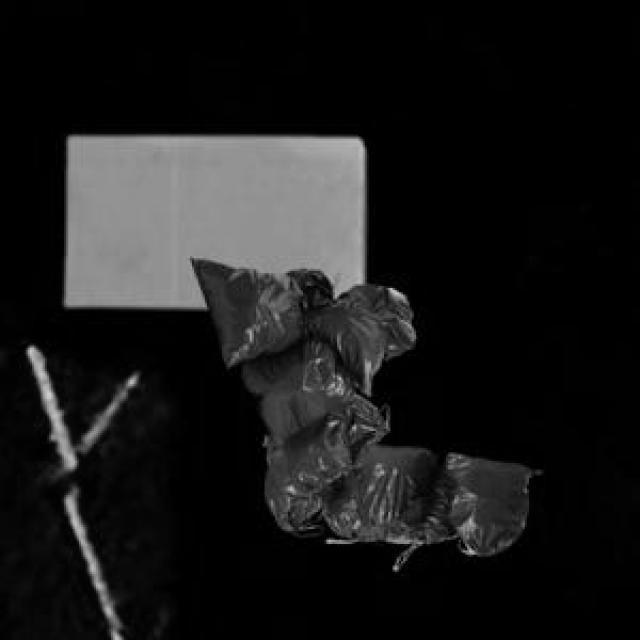miscellaneous trash: (188, 254, 412, 504), (260, 431, 537, 550)
paper: (62, 132, 361, 303)
